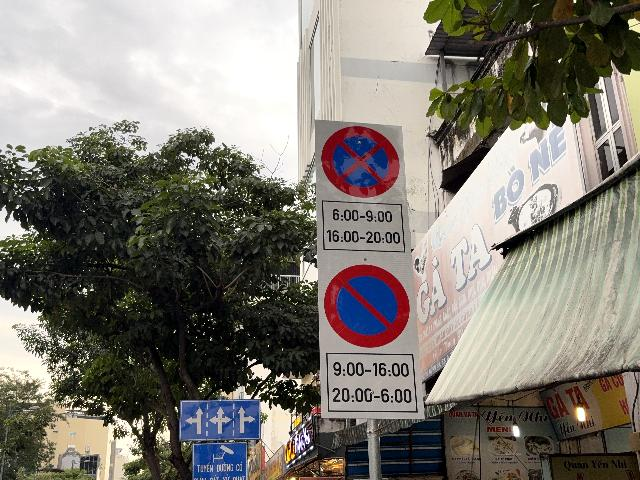cam-do-xe: (324, 263, 411, 348)
cam-dung-va-do-xe: (321, 125, 401, 198)
